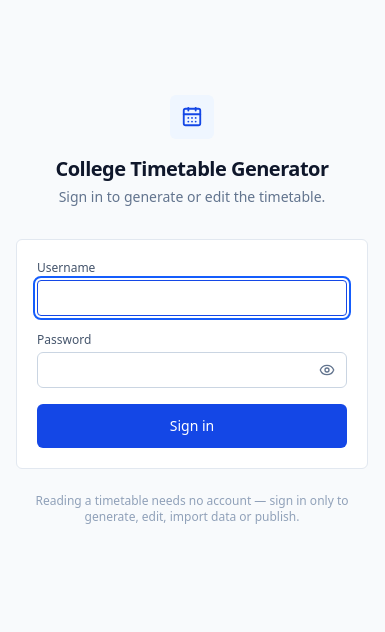
Scenario: a server still starting › reads 502 as starting up, not as a wrong password
Step 1. Type "admin" into the field labelled "Username" → (192,298), box left=37, top=280, right=347, bottom=316
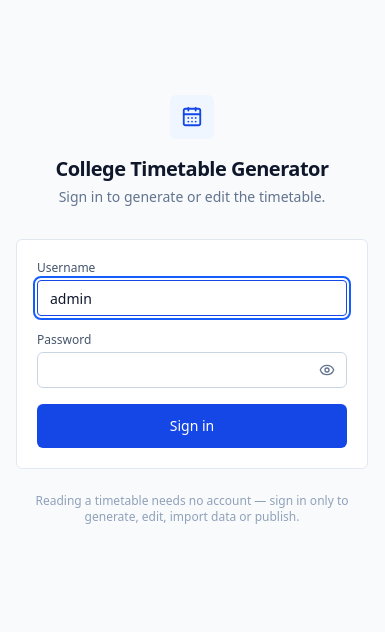
Step 2. Type "secret" into the password field labelled "Password" → (192,370), box left=37, top=352, right=347, bottom=388
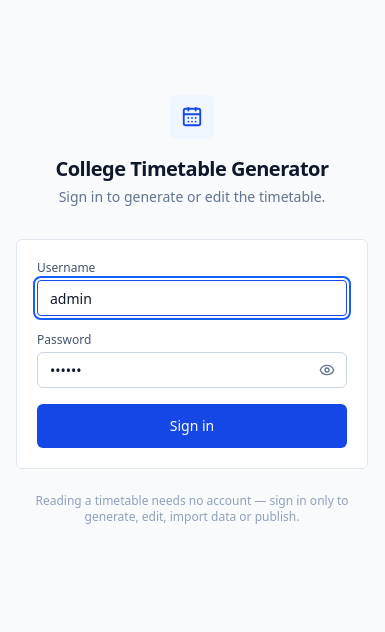
Step 3. Click the button "Sign in" → (192,426), box left=37, top=404, right=347, bottom=448
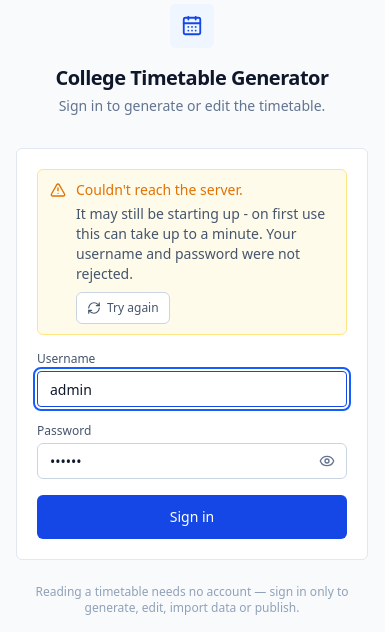
Expected: the text "Couldn't reach the server." is shown, left=76, top=180, right=243, bottom=199
